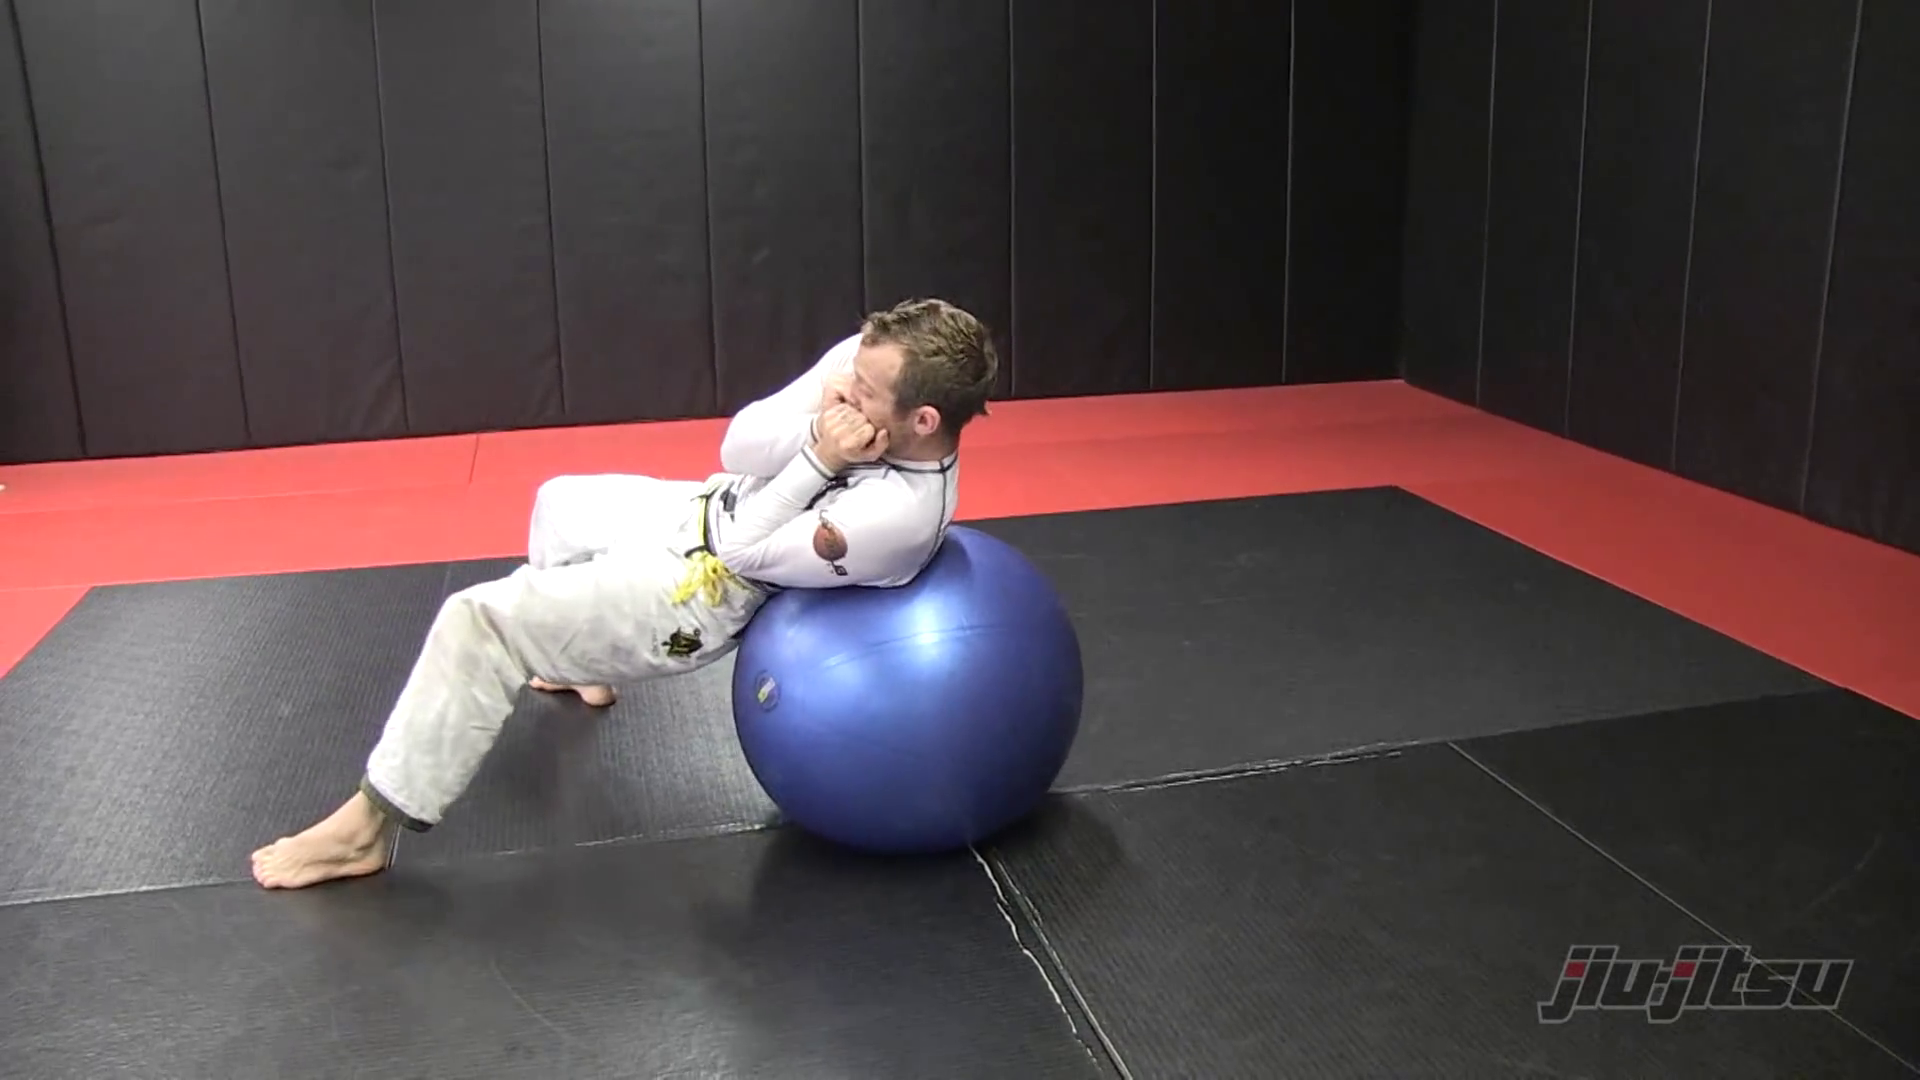yogaball: (724, 512, 1102, 878)
